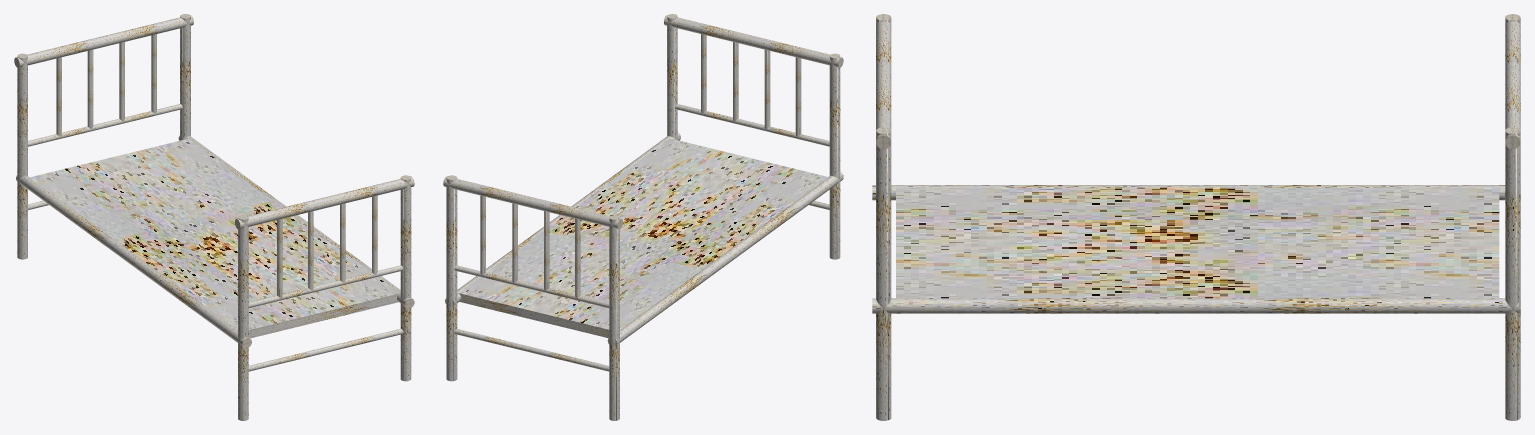
Rendered from clean_bed_no_matras.glb.
The picture shows the model from 3 angles, left to right: view 1: azimuth 30°, elevation 25°; view 2: azimuth 150°, elevation 25°; view 3: azimuth 270°, elevation 25°; orthographic projection. The views are drawn at different scales.
Parts seen in each view (by area): view 1: Куб; view 2: Куб; view 3: Куб.
Part boxes in pixels (bbox=[...]): Куб: bbox=[14, 14, 414, 420]; Куб: bbox=[443, 14, 843, 420]; Куб: bbox=[872, 14, 1520, 420].
Size of the model in its own units: 5.51 by 6.08 by 12.44.
1 material, 1 textured.
